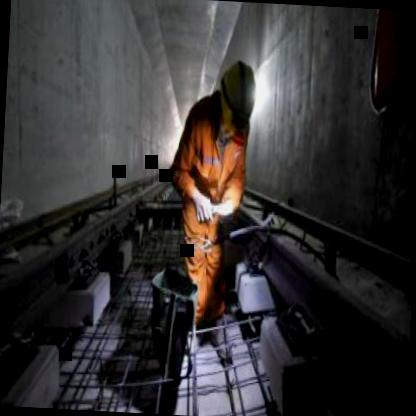helmet: (208, 58, 260, 148)
